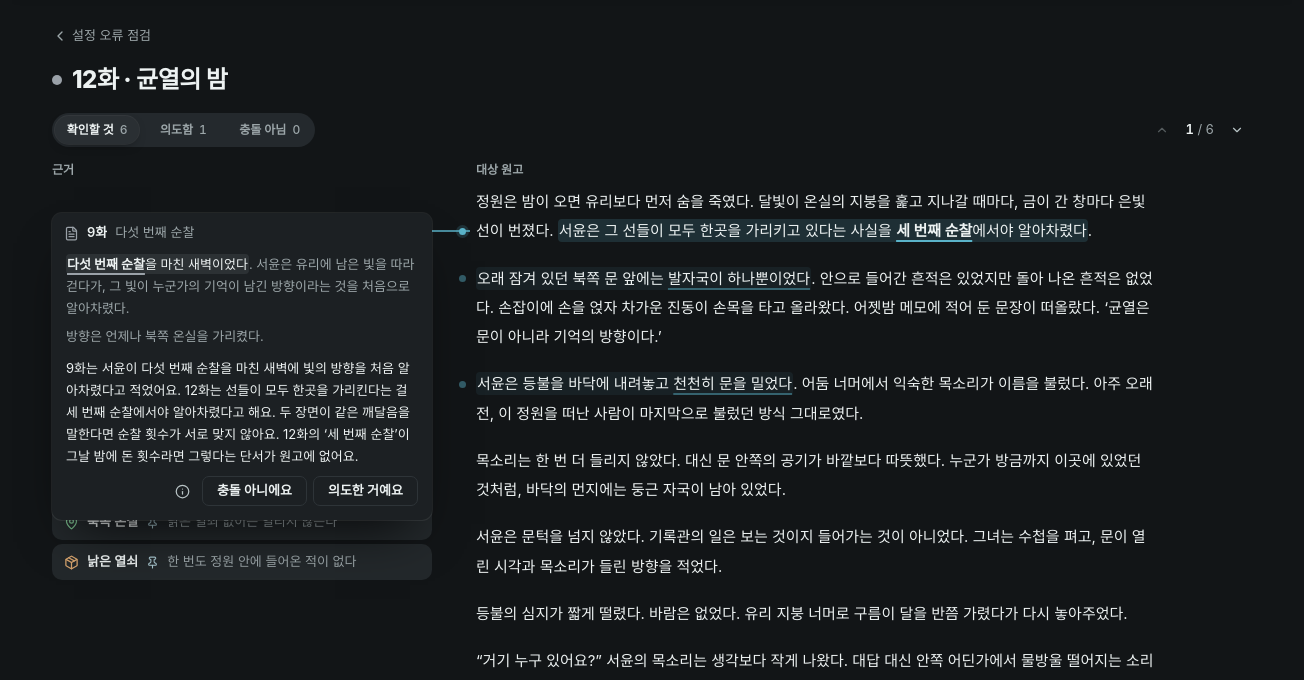
Test: setting check view › opens the source beside the report and asks it to show the sentence
Click the button with aria-label "9화 · 각성에서 보기: 다섯 번째 순찰".
click(157, 264)  # box [60,250,424,351]
(page scrolled)
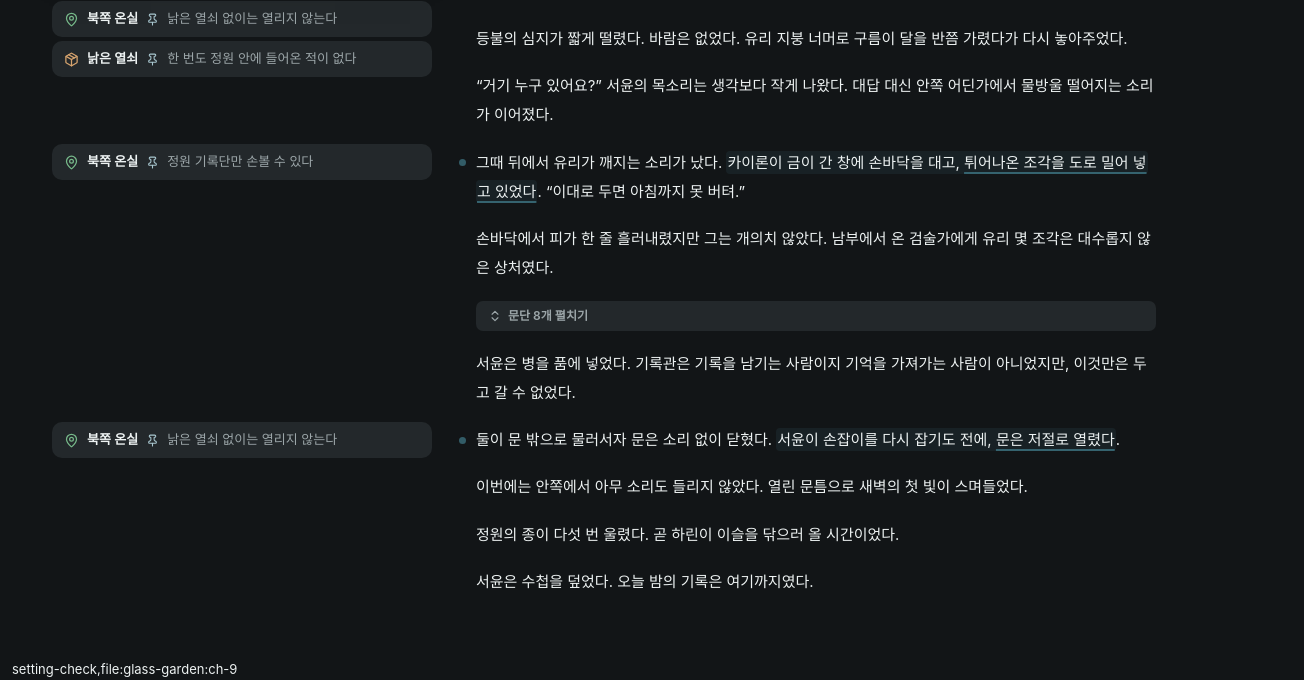
Expected: the text named "창" reads "setting-check,file:glass-garden:ch-9", [12,661,237,677]
